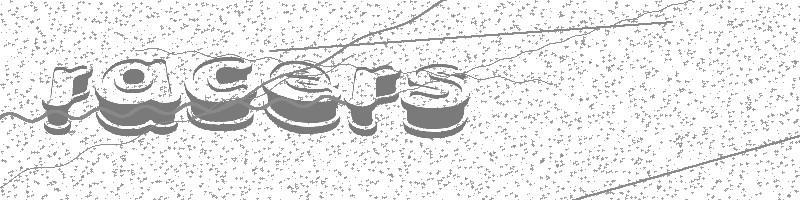a: (96, 57, 180, 136)
c: (182, 51, 256, 132)
e: (259, 55, 344, 135)
r: (40, 60, 98, 134), (346, 62, 401, 137)
s: (402, 61, 471, 138)
